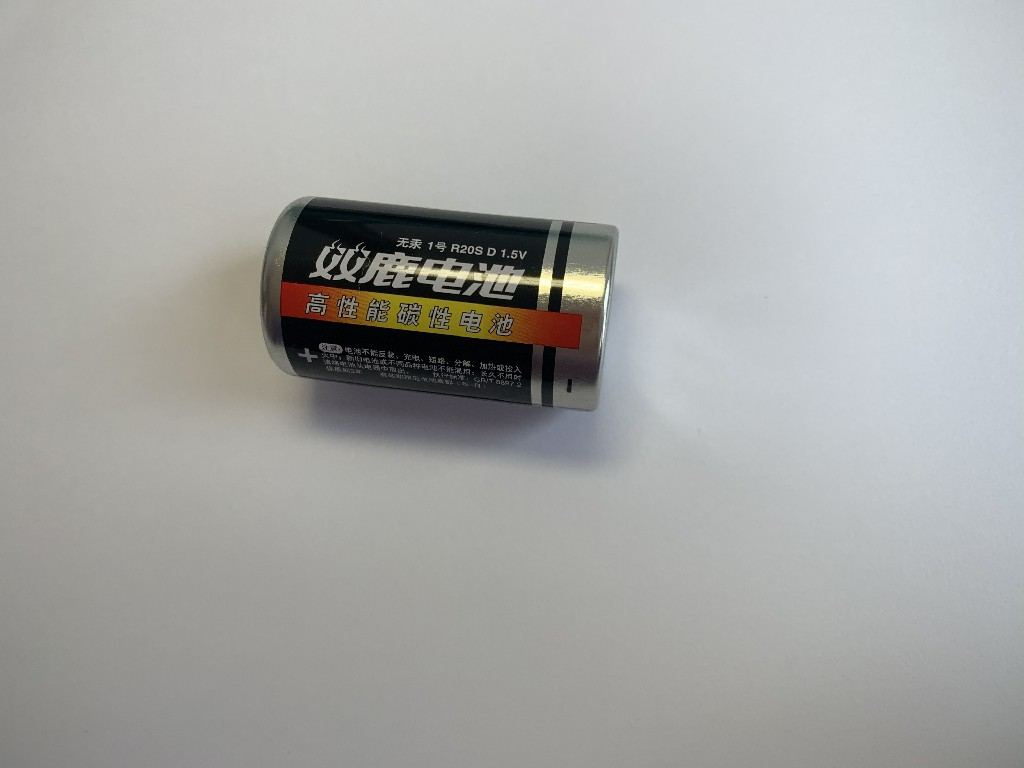charge: (255, 188, 627, 418)
